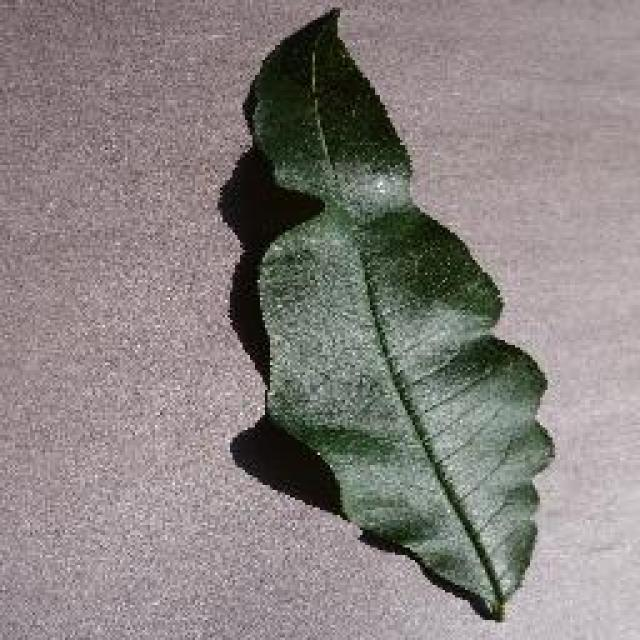Pea_healthy: (214, 71, 590, 546)
